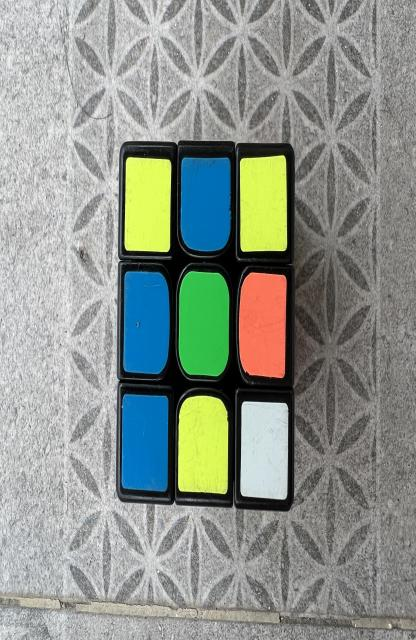Blue: (180, 157, 231, 252), (124, 272, 170, 375), (122, 395, 168, 492)
Green: (179, 272, 229, 377)
Orange: (239, 272, 287, 378)
White: (240, 402, 288, 500)
Yellow: (178, 395, 228, 495), (240, 155, 288, 252), (124, 157, 171, 252)
